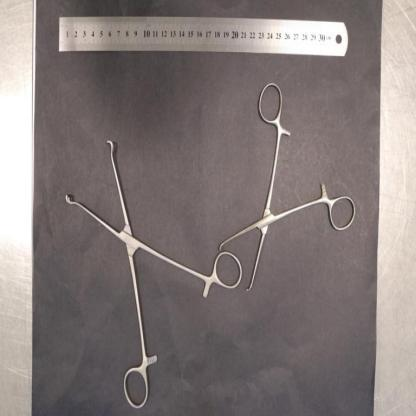8 Babcock Tissue Forceps: (64, 139, 243, 409)
Allis Tissue Forceps: (218, 80, 356, 296)
